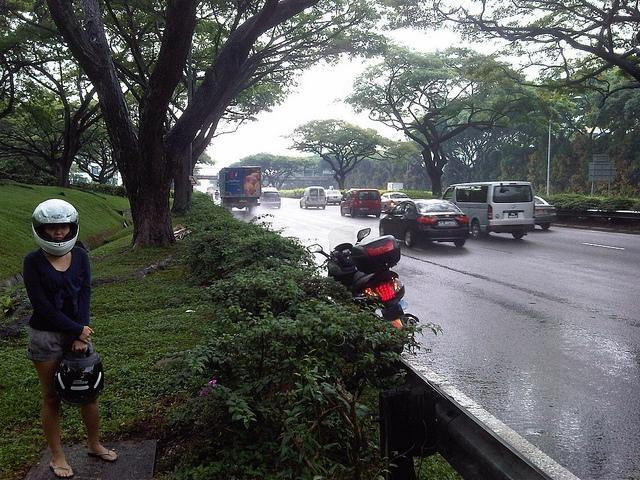car: (378, 194, 468, 248), (341, 188, 382, 218), (534, 194, 557, 230), (299, 186, 328, 210), (381, 192, 414, 212), (259, 186, 282, 208), (324, 190, 343, 203)
motorcycle: (306, 221, 409, 344)
truck: (440, 184, 538, 238), (218, 165, 262, 213), (300, 184, 328, 210)
